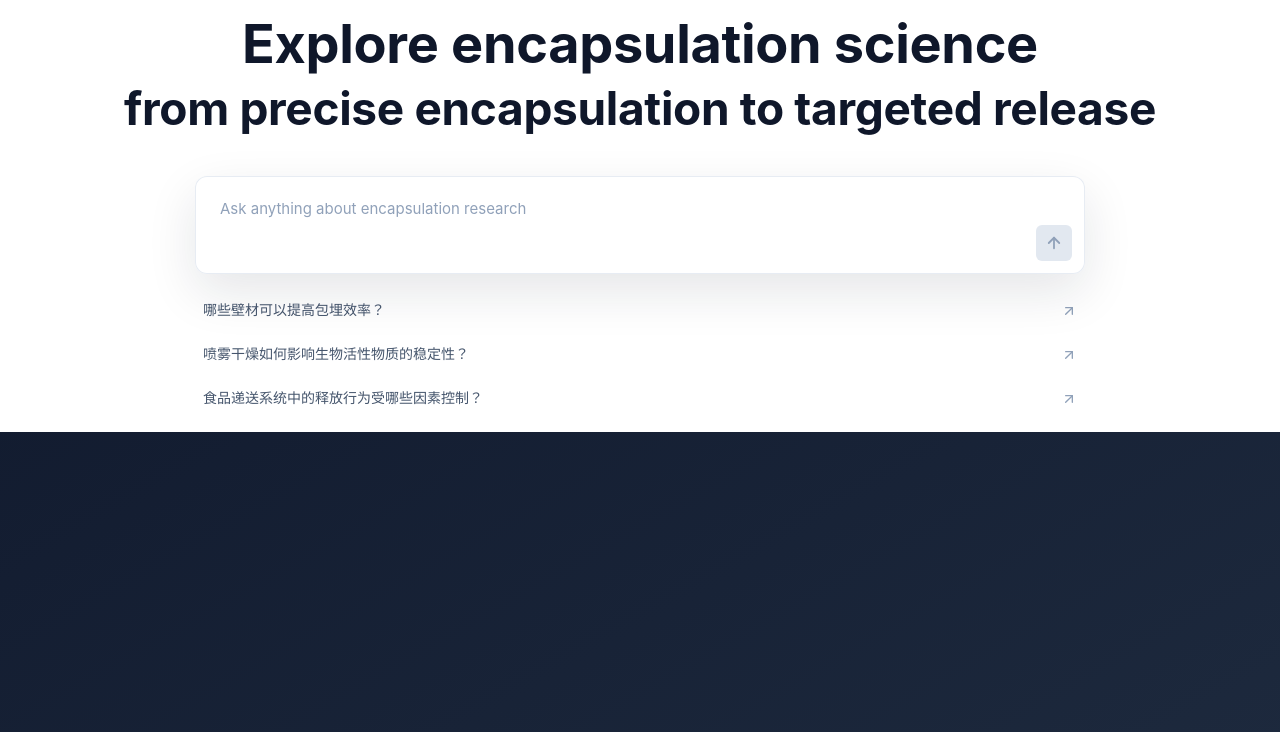
Test: Encapsulation welcome experience › fills the composer without sending when a preset question is selected
Click the button "喷雾干燥如何影响生物活性物质的稳定性？" at (336, 353), box [195,334,1085,374]
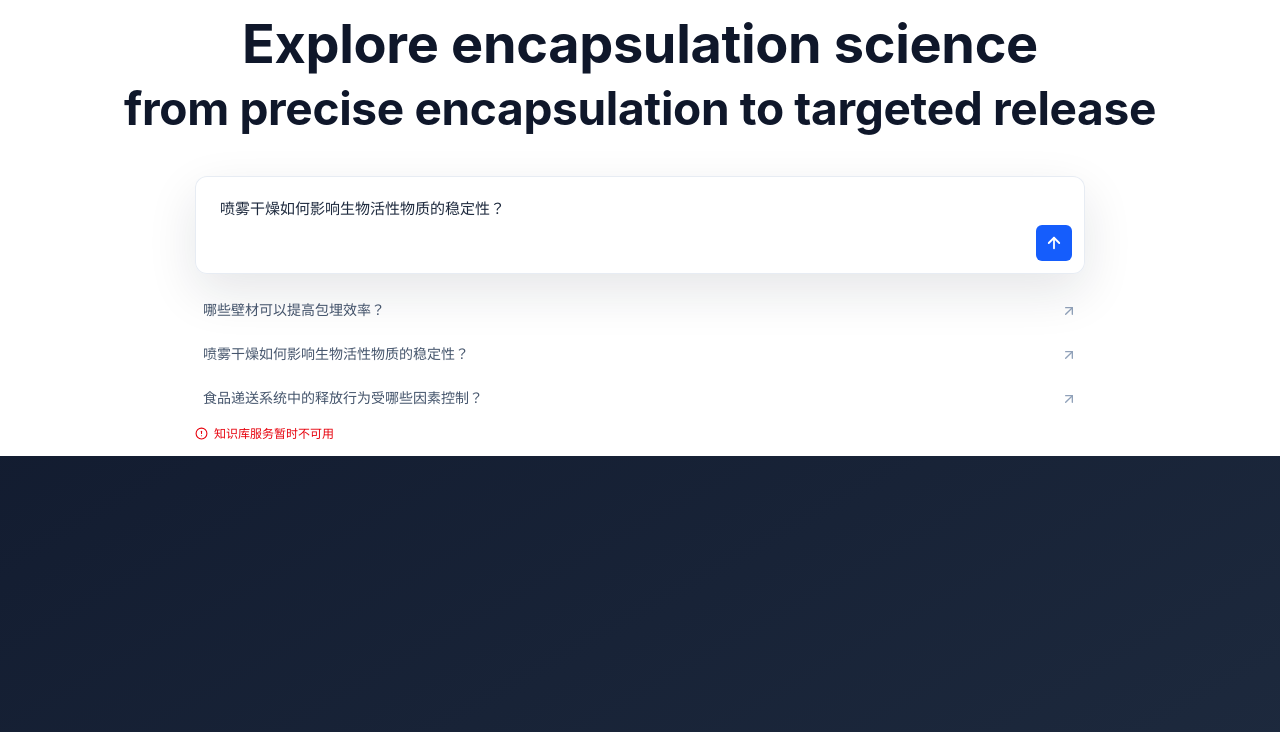
Result: the text box named "Encapsulation question" holds "喷雾干燥如何影响生物活性物质的稳定性？" at [196,177,1084,273]
